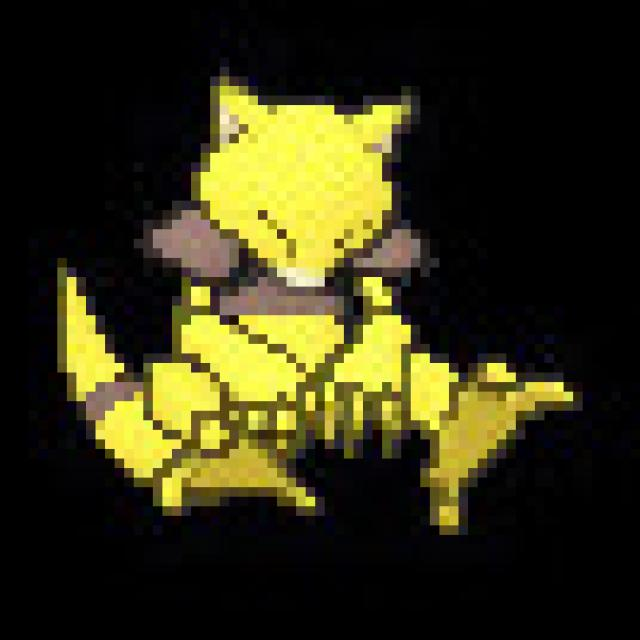Abra: (137, 69, 451, 478)
